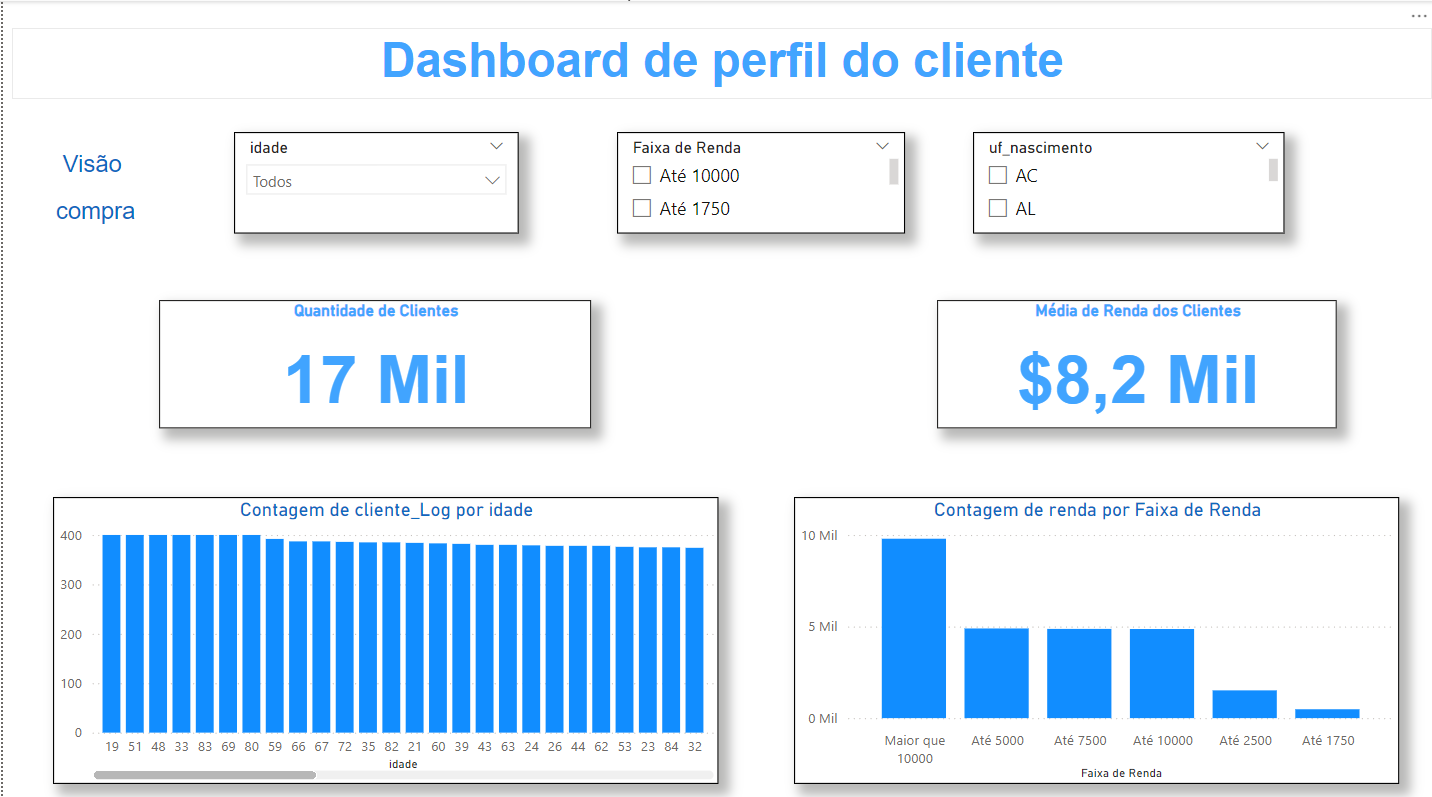

This screenshot's page, from the dashboard's own definition file:
{"tool":"powerbi","page":{"name":"Perfil do cliente","canvas":[1280,720],"ordinal":1},"visuals":[{"type":"textbox","box":[17,129,131.6,79.7],"z":0},{"type":"textbox","box":[0,24,1280,72],"z":1000},{"type":"slicer","fields":{"Values":["Base cliente.Faixa de Renda"]},"box":[549.9,117.3,257.9,91.3],"z":2000},{"type":"slicer","fields":{"Values":["Base cliente.uf_nascimento"]},"box":[868.7,117.3,279.4,91.3],"z":3000},{"type":"slicer","fields":{"Values":["Base cliente.idade"]},"box":[206.9,117.3,255.2,91.3],"z":4000},{"type":"card","title":"Quantidade de Clientes ","fields":{"Values":["Count(Base cliente.cliente_Log)"]},"box":[140,267.8,386.9,114.6],"z":5000},{"type":"card","title":"Média de Renda dos Clientes","fields":{"Values":["Avg(Base cliente.renda)"]},"box":[836.4,267.8,358.2,114.6],"z":6000},{"type":"columnChart","fields":{"Category":["Base cliente.idade"],"Y":["CountNonNull(Base cliente.cliente_Log)"]},"box":[44.8,444.2,595.5,257],"z":7000},{"type":"clusteredColumnChart","fields":{"Category":["Base cliente.Faixa de Renda"],"Y":["CountNonNull(Base cliente.renda)"]},"box":[708.4,444.2,541.8,257],"z":8000},{"type":"textbox","box":[8,24,1272,64],"z":8001}]}

Visuals, with their boxes in screenshot pixels (x1, y1, x2, y2), scaled from the page's 1280x720 canvas onto the 1432x797 screenshot:
textbox: <box>19,143,166,231</box>
textbox: <box>0,27,1431,106</box>
slicer - Base cliente.Faixa de Renda: <box>615,130,904,231</box>
slicer - Base cliente.uf_nascimento: <box>972,130,1284,231</box>
slicer - Base cliente.idade: <box>231,130,517,231</box>
"Quantidade de Clientes " card: <box>157,296,589,423</box>
"Média de Renda dos Clientes" card: <box>936,296,1336,423</box>
columnChart - Base cliente.idade x CountNonNull(Base cliente.cliente_Log): <box>50,492,716,776</box>
clusteredColumnChart - Base cliente.Faixa de Renda x CountNonNull(Base cliente.renda): <box>793,492,1399,776</box>
textbox: <box>9,27,1431,97</box>
